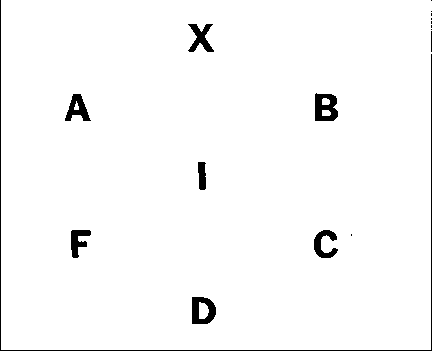I: (192, 157, 215, 197)
